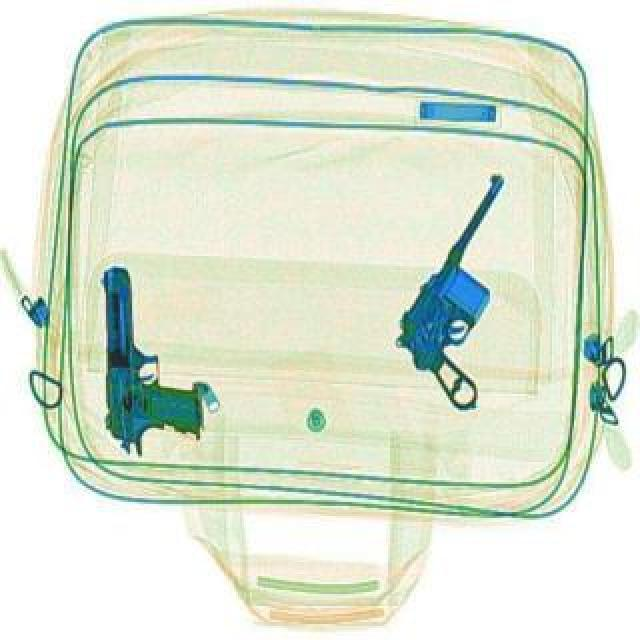gun: (366, 170, 594, 414), (100, 262, 200, 454)
